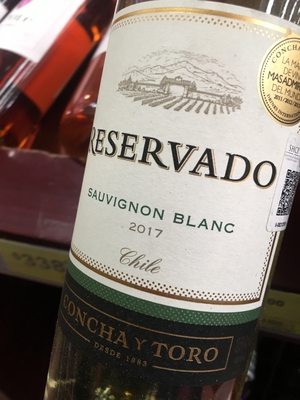reservado sauvignon blanc: (59, 3, 300, 390)
